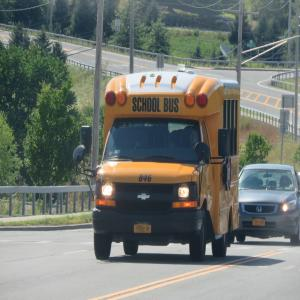Vehicle-registration-plate: (135, 224, 153, 234), (254, 217, 266, 228)
